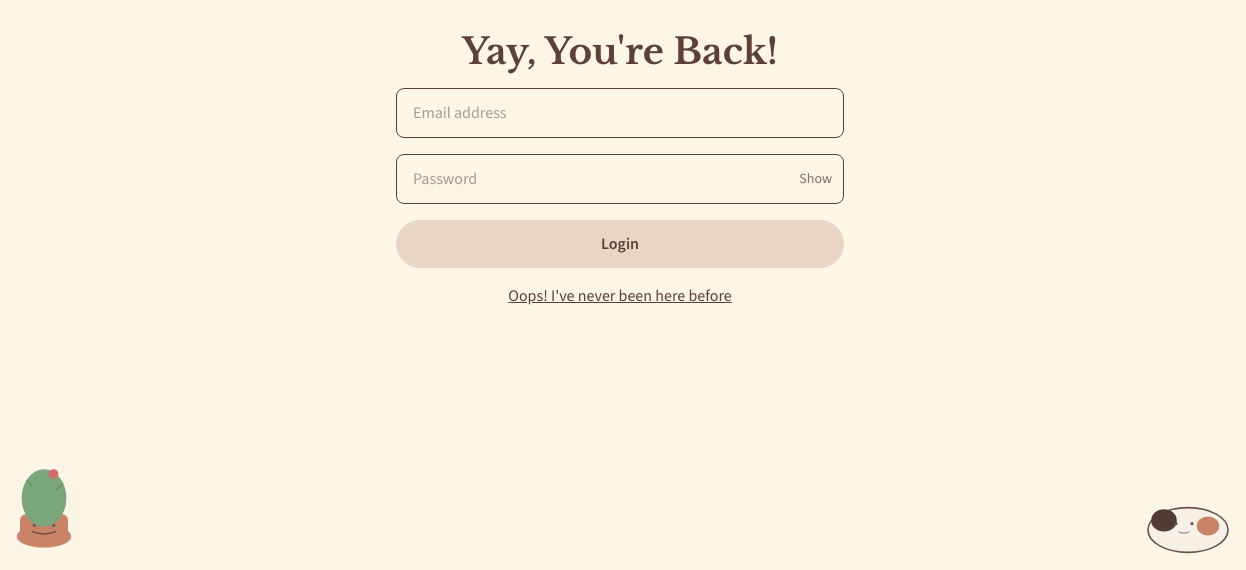
Test: AuthForm › shows a network error on unexpected failures
This screenshot has width=1246, height=570.
Type "a@b.com" into the field with placeholder "Email address".
click(620, 113); type("a@b.com")  # box [396, 88, 844, 138]
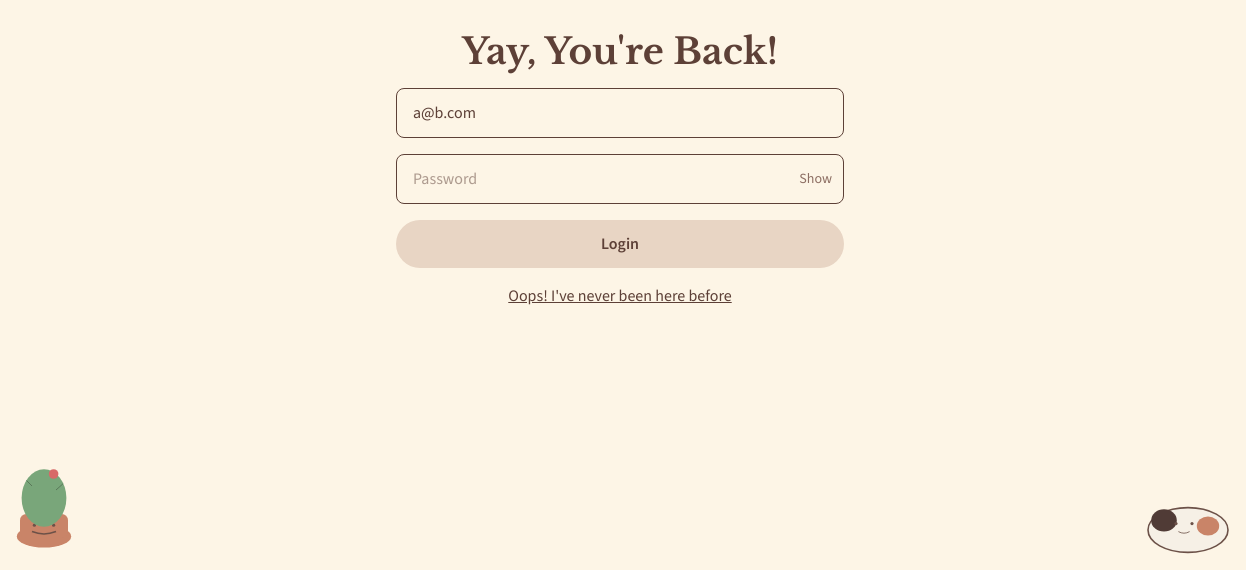
Type "secret123" into the password field with placeholder "Password".
click(620, 179); type("secret123")  # box [396, 154, 844, 204]
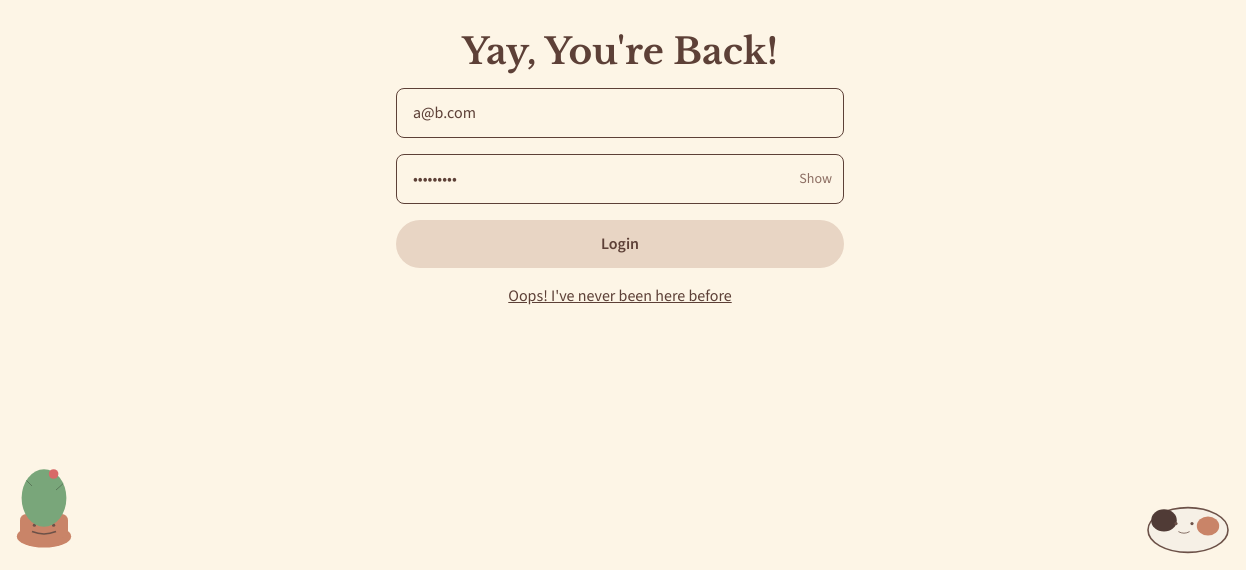
Click the button "Login".
click(620, 244)  # box [396, 220, 844, 268]
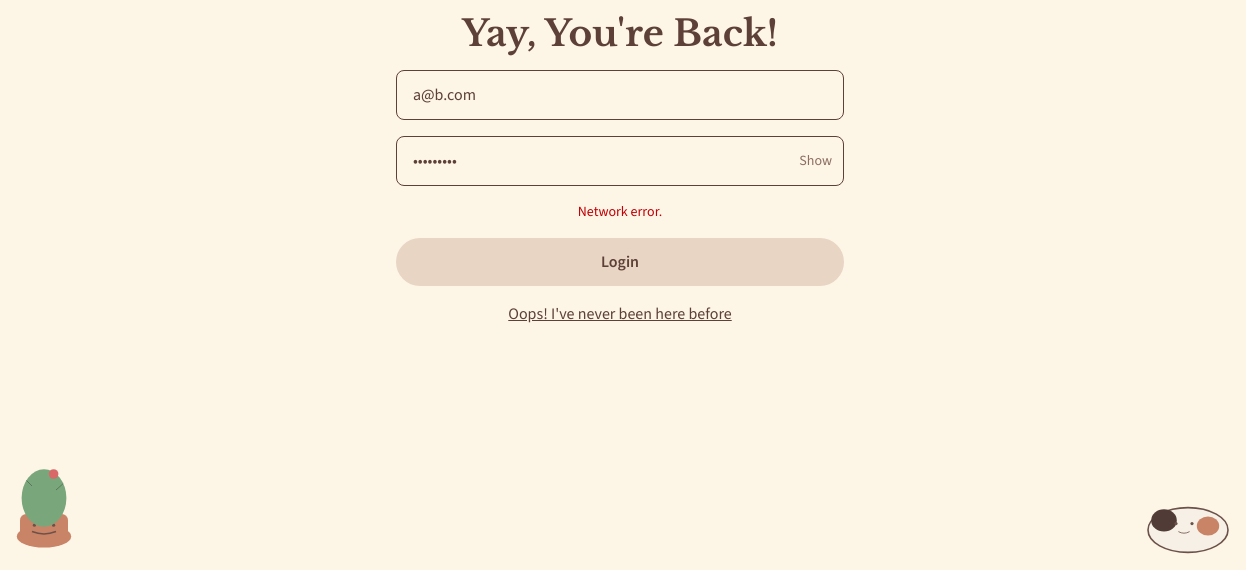
Expected: the text "Network error." is shown, [578, 202, 662, 221]
